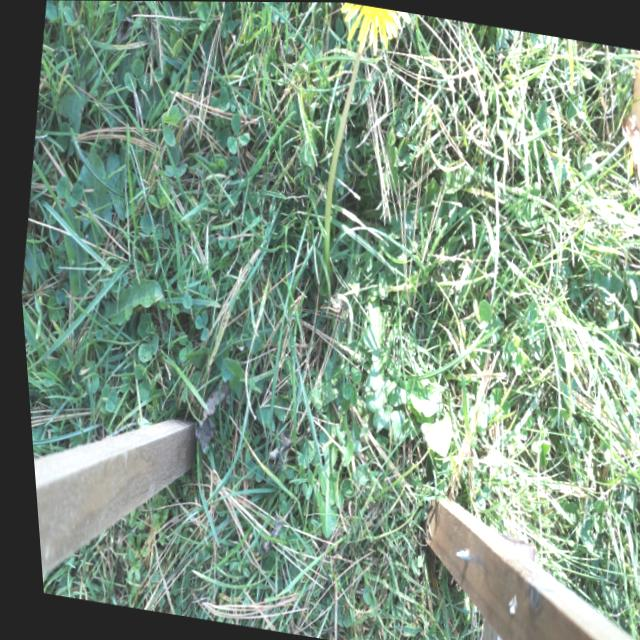base: (308, 254, 343, 306)
